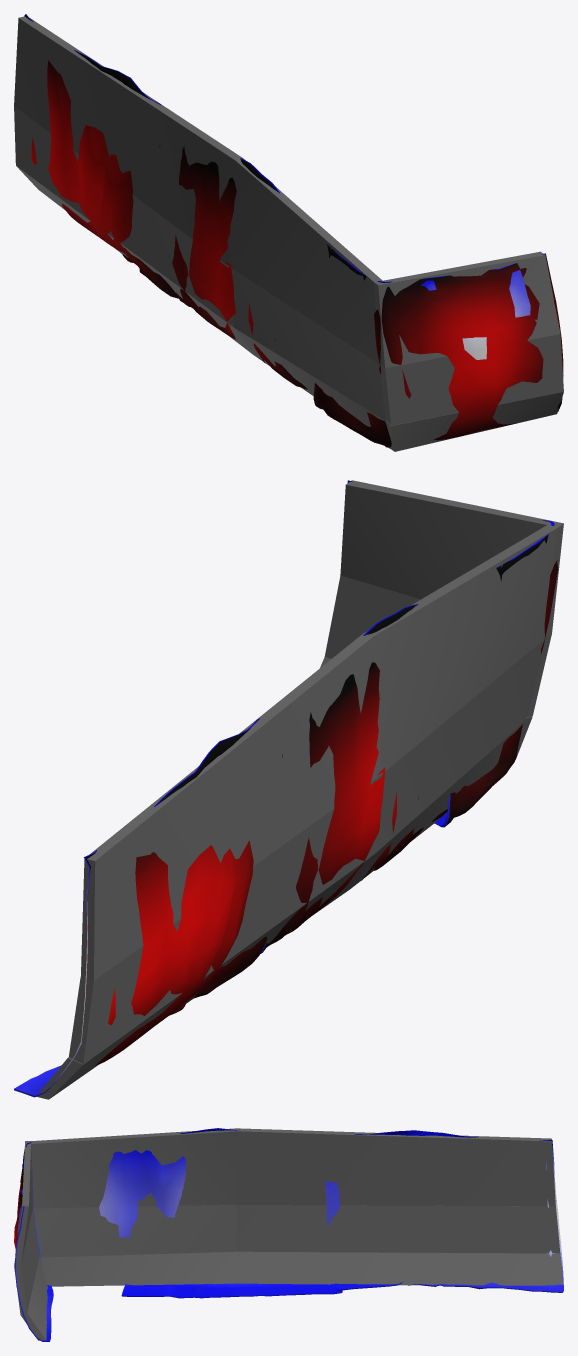
The model's file is Tent_04_Mesh.fbx.
The picture shows the model from 3 angles, top to bottom: view 1: azimuth 30°, elevation 25°; view 2: azimuth 150°, elevation 25°; view 3: azimuth 270°, elevation 25°; orthographic projection. The views are drawn at different scales.
Visible parts, largest first — view 1: Tent_04_LOD0, Tent_04_COL_01, Tent_04_COL_03, Tent_04_COL_04, Tent_04_COL_07, Tent_04_COL_00, Tent_04_COL_08, Tent_04_COL_06, Tent_04_COL_05, Tent_04_COL_02; view 2: Tent_04_LOD0, Tent_04_COL_01, Tent_04_COL_03, Tent_04_COL_08, Tent_04_COL_00, Tent_04_COL_04, Tent_04_COL_07, Tent_04_COL_02, Tent_04_COL_05; view 3: Tent_04_COL_01, Tent_04_COL_00, Tent_04_COL_03, Tent_04_LOD0, Tent_04_COL_02, Tent_04_COL_04, Tent_04_COL_05, Tent_04_COL_07, Tent_04_COL_06, Tent_04_COL_08.
Boxes of the visible parts, left/top/right/bottom form: Tent_04_LOD0: left=24, top=14, right=563, bottom=447; Tent_04_COL_01: left=14, top=16, right=243, bottom=265; Tent_04_COL_03: left=228, top=158, right=382, bottom=364; Tent_04_COL_04: left=228, top=266, right=386, bottom=420; Tent_04_COL_07: left=380, top=334, right=563, bottom=425; Tent_04_COL_00: left=14, top=106, right=234, bottom=327; Tent_04_COL_08: left=374, top=251, right=560, bottom=368; Tent_04_COL_06: left=386, top=392, right=563, bottom=451; Tent_04_COL_05: left=235, top=328, right=389, bottom=448; Tent_04_COL_02: left=16, top=166, right=252, bottom=354; Tent_04_LOD0: left=14, top=480, right=557, bottom=1097; Tent_04_COL_01: left=81, top=634, right=381, bottom=980; Tent_04_COL_03: left=363, top=524, right=558, bottom=773; Tent_04_COL_08: left=340, top=480, right=563, bottom=636; Tent_04_COL_00: left=69, top=774, right=381, bottom=1064; Tent_04_COL_04: left=374, top=639, right=544, bottom=853; Tent_04_COL_07: left=324, top=575, right=551, bottom=717; Tent_04_COL_02: left=37, top=855, right=373, bottom=1099; Tent_04_COL_05: left=350, top=721, right=524, bottom=888; Tent_04_COL_01: left=236, top=1128, right=555, bottom=1206; Tent_04_COL_00: left=236, top=1205, right=560, bottom=1253; Tent_04_COL_03: left=31, top=1128, right=236, bottom=1208; Tent_04_LOD0: left=14, top=1128, right=563, bottom=1341; Tent_04_COL_02: left=236, top=1251, right=563, bottom=1285; Tent_04_COL_04: left=34, top=1205, right=236, bottom=1257; Tent_04_COL_05: left=41, top=1251, right=236, bottom=1286; Tent_04_COL_07: left=14, top=1207, right=39, bottom=1314; Tent_04_COL_06: left=20, top=1256, right=47, bottom=1340; Tent_04_COL_08: left=14, top=1141, right=33, bottom=1265.
Bounding box in the file's own units: 24455 × 80545 × 24489.
